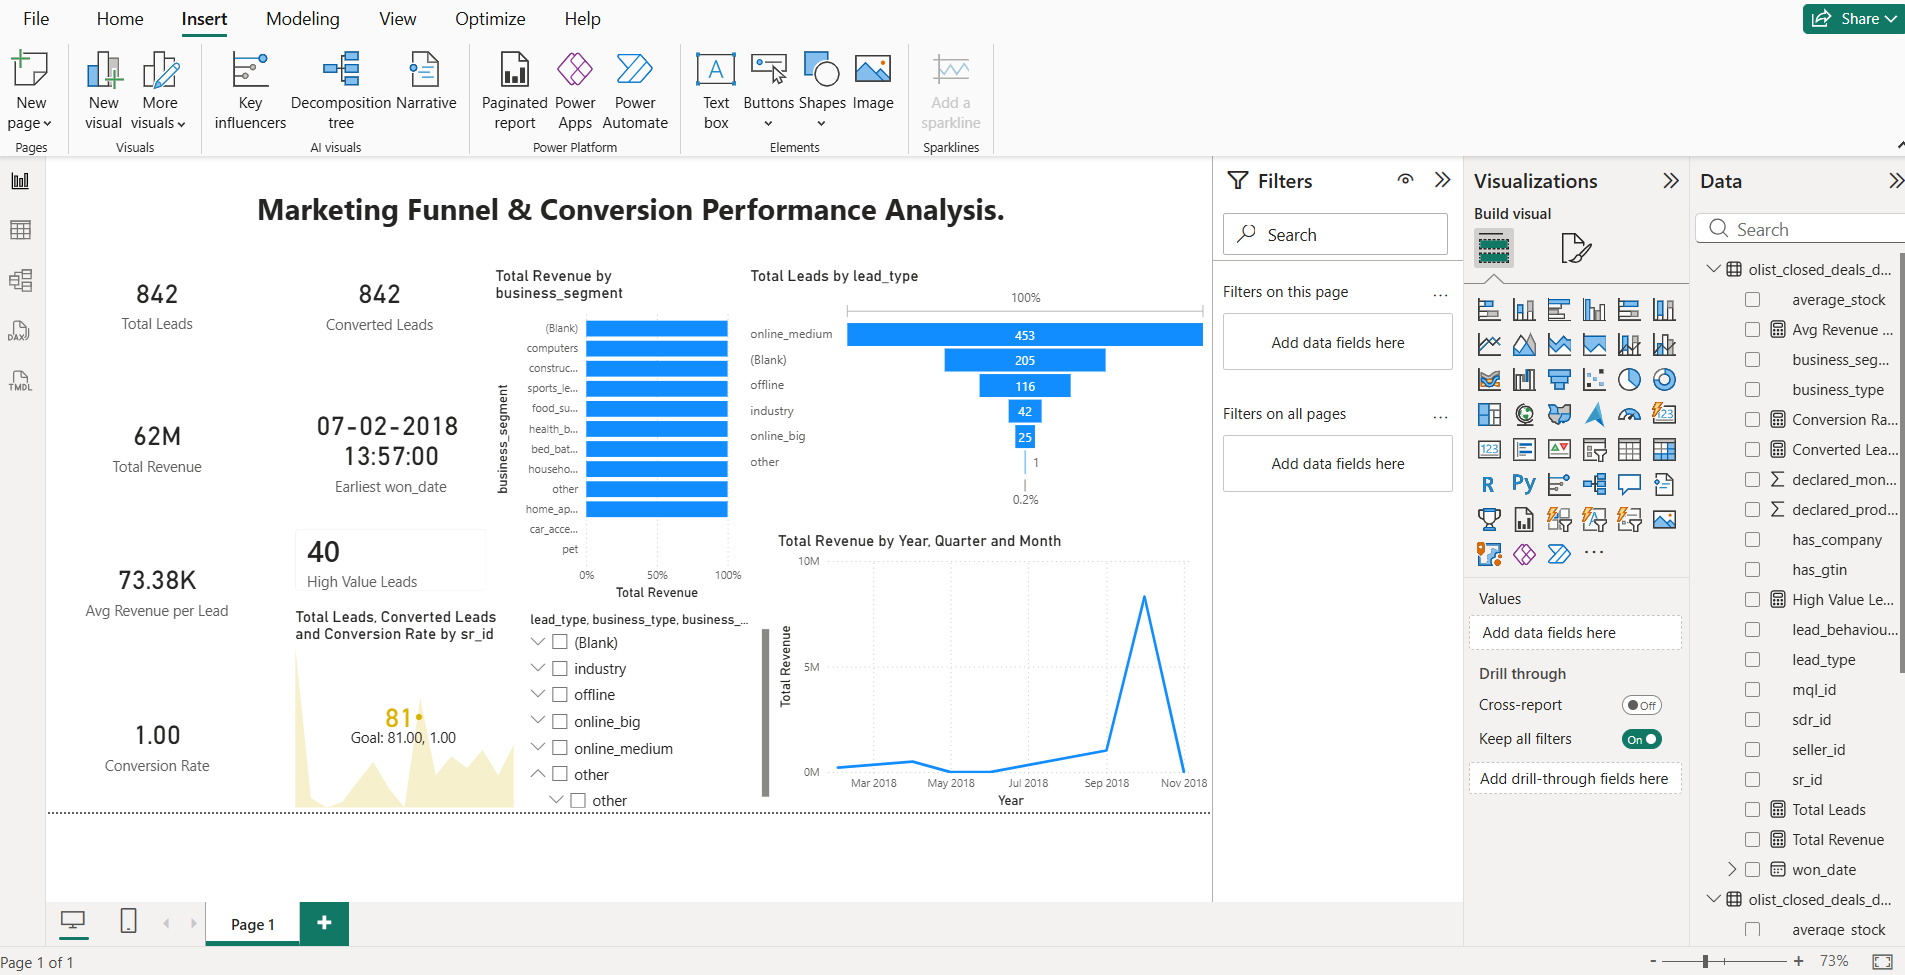

This screenshot's page, from the dashboard's own definition file:
{"tool":"powerbi","page":{"name":"Page 1","canvas":[1280,720],"ordinal":0},"visuals":[{"type":"kpi","fields":{"Indicator":["olist_closed_deals_dataset.Total Leads"],"Goal":["olist_closed_deals_dataset.Converted Leads","olist_closed_deals_dataset.Conversion Rate"],"TrendLine":["olist_closed_deals_dataset.sr_id"]},"box":[269,495.4,249.7,225],"z":0},{"type":"funnel","fields":{"Category":["olist_closed_deals_dataset.lead_type"],"Y":["olist_closed_deals_dataset.Total Leads"]},"box":[768.4,120.8,511.8,271.7],"z":1000},{"type":"hundredPercentStackedBarChart","fields":{"Category":["olist_closed_deals_dataset.business_segment"],"Y":["olist_closed_deals_dataset.Total Revenue"]},"box":[488.5,120.8,279.9,371.9],"z":2000},{"type":"lineChart","fields":{"Y":["olist_closed_deals_dataset.Total Revenue"],"Category":["olist_closed_deals_dataset.won_date.Variation.Date Hierarchy.Year","olist_closed_deals_dataset.won_date.Variation.Date Hierarchy.Quarter","olist_closed_deals_dataset.won_date.Variation.Date Hierarchy.Month","olist_closed_deals_dataset.won_date.Variation.Date Hierarchy.Day"]},"box":[798.6,411.7,481.6,308.7],"z":3000},{"type":"slicer","fields":{"Values":["olist_closed_deals_dataset.lead_type","olist_closed_deals_dataset.business_type","olist_closed_deals_dataset.business_segment"]},"box":[518.7,495.4,279.9,225],"z":4000},{"type":"cardVisual","fields":{"Data":["olist_closed_deals_dataset.High Value Leads"]},"box":[256.6,392.5,244.3,102.9],"z":5000},{"type":"card","fields":{"Values":["olist_closed_deals_dataset.Total Leads"]},"box":[0,79.6,244.3,160.5],"z":6000},{"type":"card","fields":{"Values":["olist_closed_deals_dataset.Total Revenue"]},"box":[0,240.1,244.3,152.3],"z":7000},{"type":"card","fields":{"Values":["olist_closed_deals_dataset.Avg Revenue per Lead"]},"box":[0,392.5,244.3,163.3],"z":8000},{"type":"card","fields":{"Values":["olist_closed_deals_dataset.Conversion Rate"]},"box":[0,568.1,244.3,152.3],"z":9000},{"type":"card","fields":{"Values":["olist_closed_deals_dataset.Converted Leads"]},"box":[244.3,79.6,244.3,161.9],"z":10000},{"type":"card","fields":{"Values":["Min(olist_closed_deals_dataset.won_date)"]},"box":[269,241.5,219.6,160.5],"z":12000},{"type":"textbox","box":[226.4,31.6,853.5,60.4],"z":12001}]}

Visuals, with their boxes on the page's 1280x720 design canvas (x1, y1, x2, y2). These are canvas units, not pixel positions in the 1905x975 screenshot, which may show the page scaled, cropped or inside an application window:
kpi - olist_closed_deals_dataset.Total Leads x olist_closed_deals_dataset.Converted Leads: [269,495,519,720]
funnel - olist_closed_deals_dataset.lead_type x olist_closed_deals_dataset.Total Leads: [768,121,1280,392]
hundredPercentStackedBarChart - olist_closed_deals_dataset.business_segment x olist_closed_deals_dataset.Total Revenue: [488,121,768,493]
lineChart - olist_closed_deals_dataset.Total Revenue x olist_closed_deals_dataset.won_date.Variation.Date Hierarchy.Year: [799,412,1280,720]
slicer - olist_closed_deals_dataset.lead_type x olist_closed_deals_dataset.business_type: [519,495,799,720]
cardVisual - olist_closed_deals_dataset.High Value Leads: [257,392,501,495]
card - olist_closed_deals_dataset.Total Leads: [0,80,244,240]
card - olist_closed_deals_dataset.Total Revenue: [0,240,244,392]
card - olist_closed_deals_dataset.Avg Revenue per Lead: [0,392,244,556]
card - olist_closed_deals_dataset.Conversion Rate: [0,568,244,720]
card - olist_closed_deals_dataset.Converted Leads: [244,80,489,242]
card - Min(olist_closed_deals_dataset.won_date): [269,242,489,402]
textbox: [226,32,1080,92]
